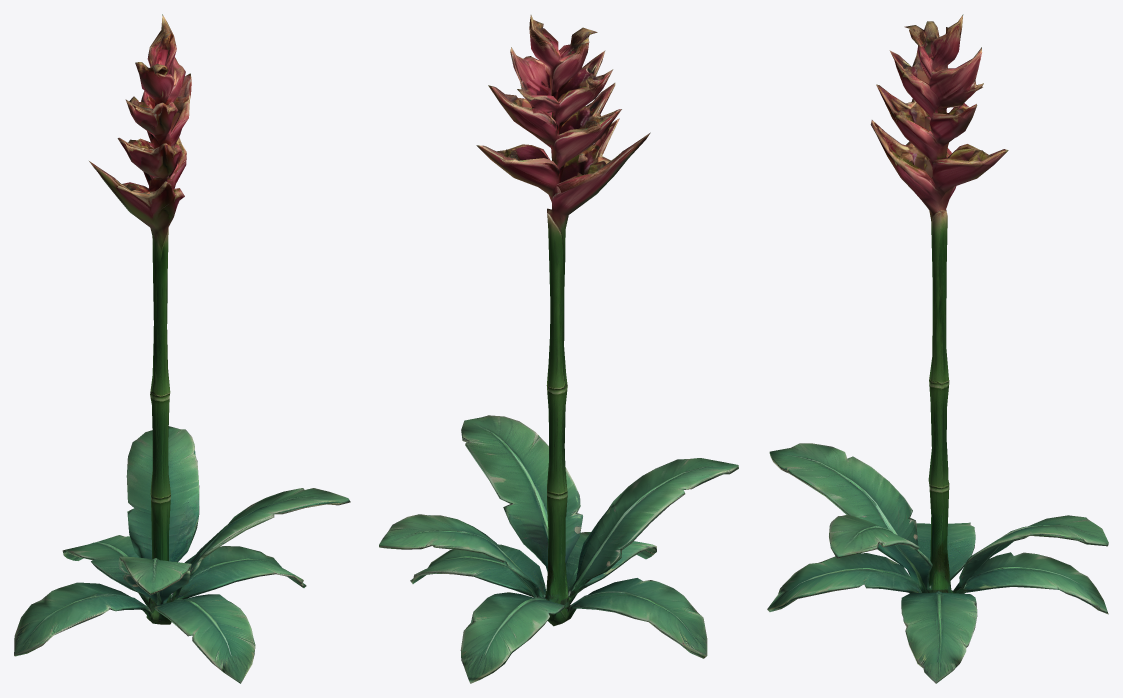
The picture shows the model from 3 angles, left to right: view 1: azimuth 30°, elevation 25°; view 2: azimuth 150°, elevation 25°; view 3: azimuth 270°, elevation 25°; orthographic projection. The views are drawn at different scales.
Visible parts, largest first — view 1: Mesh_0; view 2: Mesh_0; view 3: Mesh_0.
Part boxes in pixels (bbox=[...]): Mesh_0: bbox=[14, 14, 350, 683]; Mesh_0: bbox=[379, 15, 738, 683]; Mesh_0: bbox=[767, 14, 1108, 683].
Size of the model in its own units: 0.9735 by 1.91 by 0.9749.
Materials: 1 (1 with a texture image).
